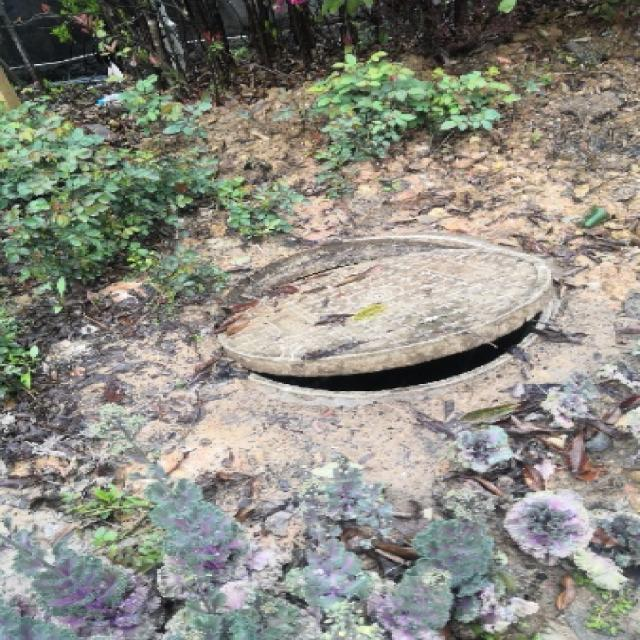Lose: (188, 217, 595, 425)
